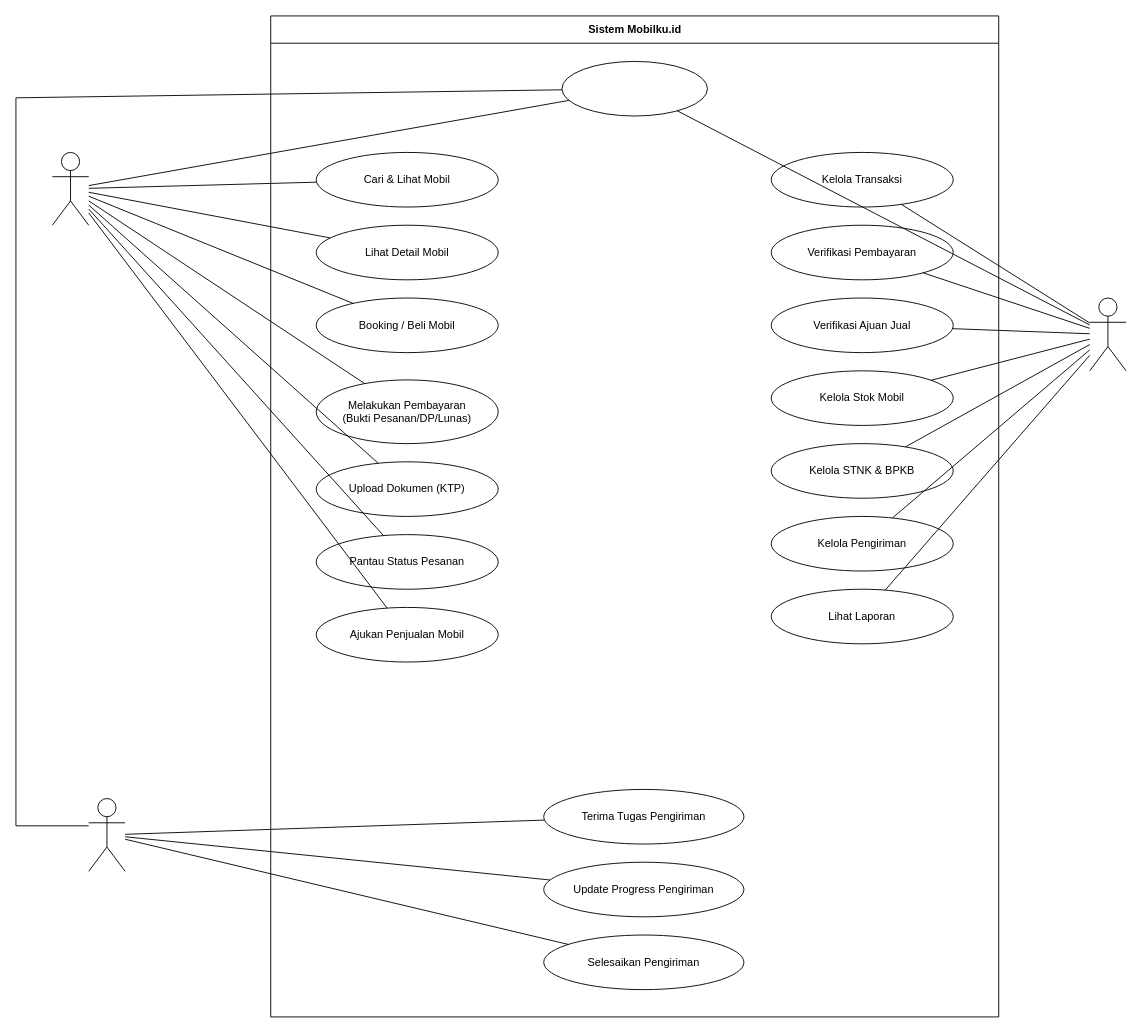
Image size: 1142x1033. Some labels were removed from this diagram. Here are the shapes that lost their labels. From the top down, the box of each, then its label:
(561, 61, 708, 116): Login
(51, 152, 89, 225): User (Buyer/Seller)
(1089, 297, 1126, 371): Admin
(88, 798, 125, 871): Kurir
